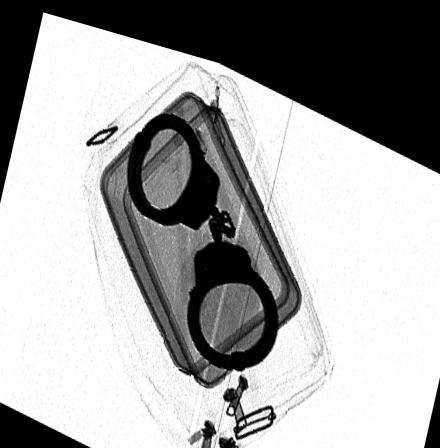HandCuffs: (126, 101, 278, 358)
